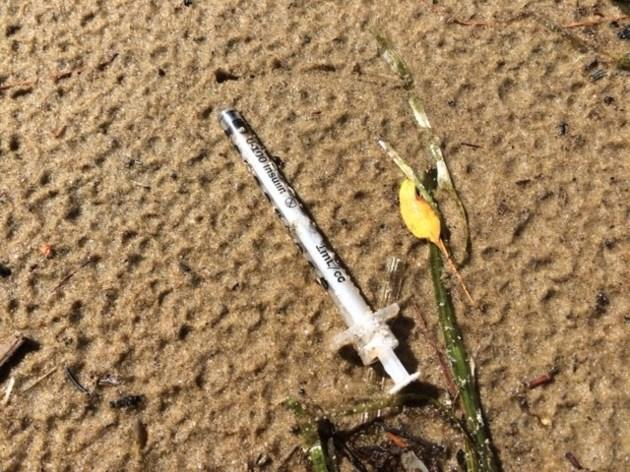Syringe: (219, 109, 418, 393)
